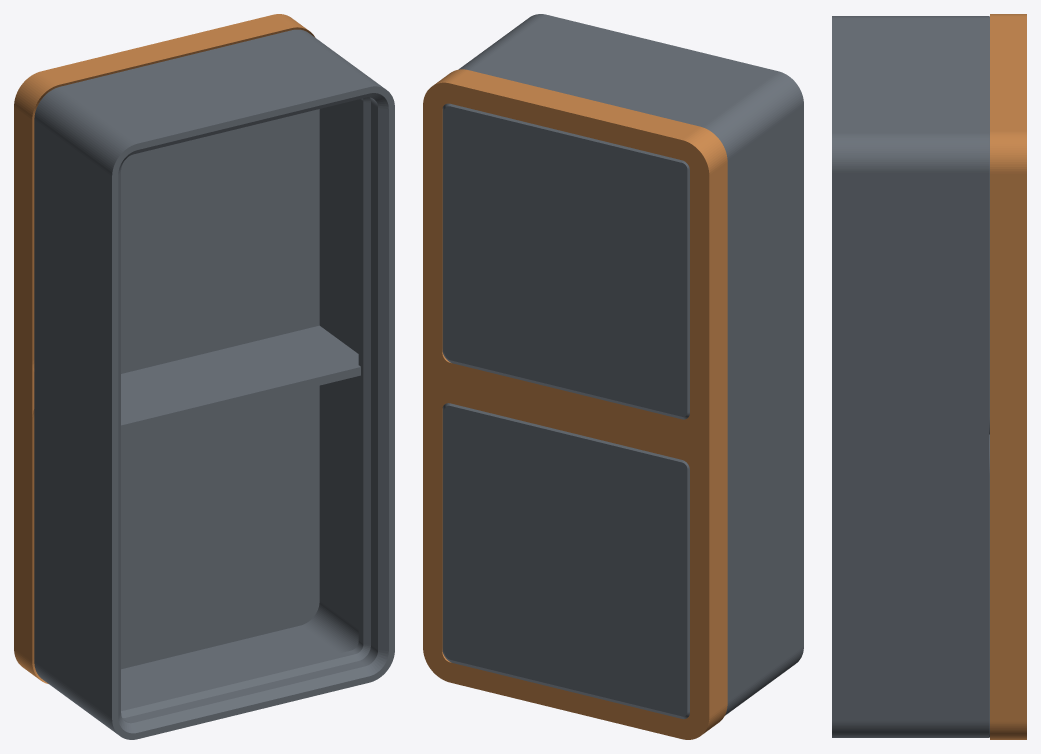
3 renders of one model, left to right at view 1: azimuth 30°, elevation 25°; view 2: azimuth 150°, elevation 25°; view 3: azimuth 270°, elevation 25°, orthographic.
Parts seen in each view (by area): view 1: bac, plaque; view 2: bac, plaque; view 3: bac, plaque.
Part boxes in pixels (box(x1,y1,x2,y2)): bac: box(34, 29, 394, 739); plaque: box(14, 14, 315, 683); bac: box(442, 14, 803, 719); plaque: box(423, 69, 727, 739); bac: box(832, 16, 989, 737); plaque: box(990, 14, 1026, 739).
Size of the model in its own units: 42 by 84 by 24.5.
